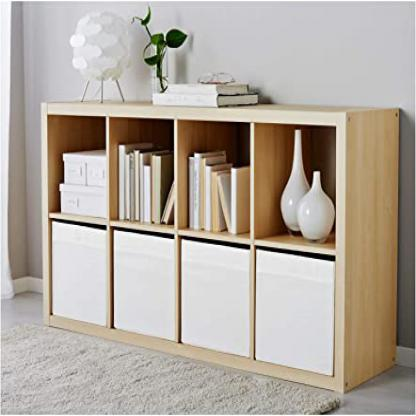lamp: (41, 98, 402, 396)
